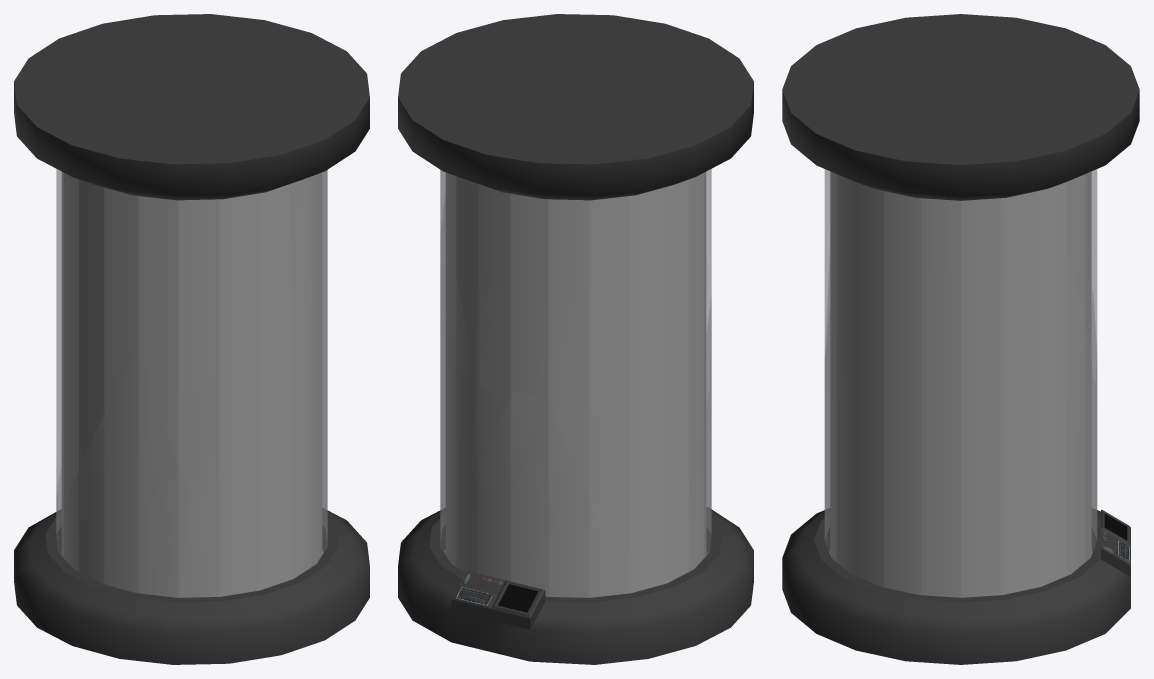
The model's file is cloneVat02.fbx.
The picture shows the model from 3 angles, left to right: view 1: azimuth 30°, elevation 25°; view 2: azimuth 150°, elevation 25°; view 3: azimuth 270°, elevation 25°; orthographic projection.
Visible parts, largest first — view 1: Glass1, Base, Glass; view 2: Glass1, Base, Glass; view 3: Glass1, Glass, Base.
Part boxes in pixels (bbox=[...]): Glass1: bbox=[56, 169, 327, 597]; Base: bbox=[14, 14, 369, 664]; Glass: bbox=[56, 170, 327, 597]; Glass1: bbox=[440, 169, 711, 597]; Base: bbox=[398, 14, 753, 664]; Glass: bbox=[440, 170, 711, 597]; Glass1: bbox=[824, 169, 1097, 597]; Glass: bbox=[824, 172, 1097, 597]; Base: bbox=[782, 14, 1139, 664].
Bounding box in the file's own units: 137 × 212 × 137.
